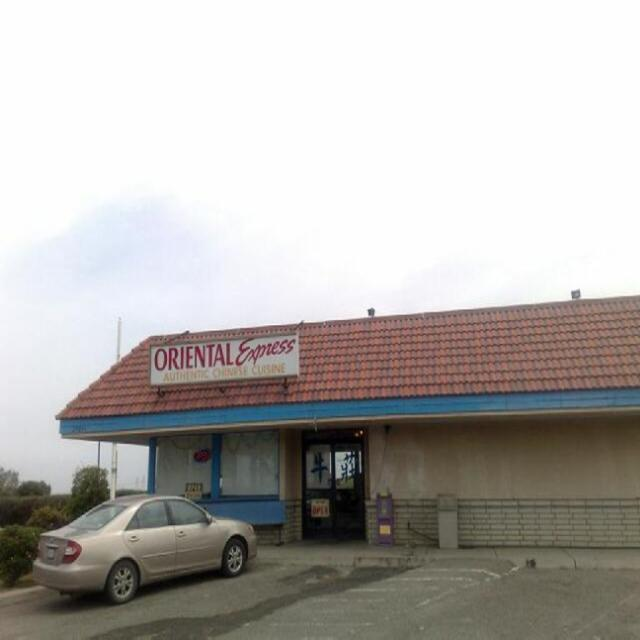car: (28, 489, 256, 609)
